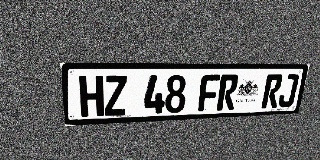4: (144, 75, 166, 114)
8: (165, 75, 187, 113)
F: (198, 74, 220, 111)
H: (79, 75, 104, 117)
J: (277, 74, 300, 108)
R: (216, 74, 239, 111), (261, 74, 283, 108)
Z: (104, 75, 127, 116)
